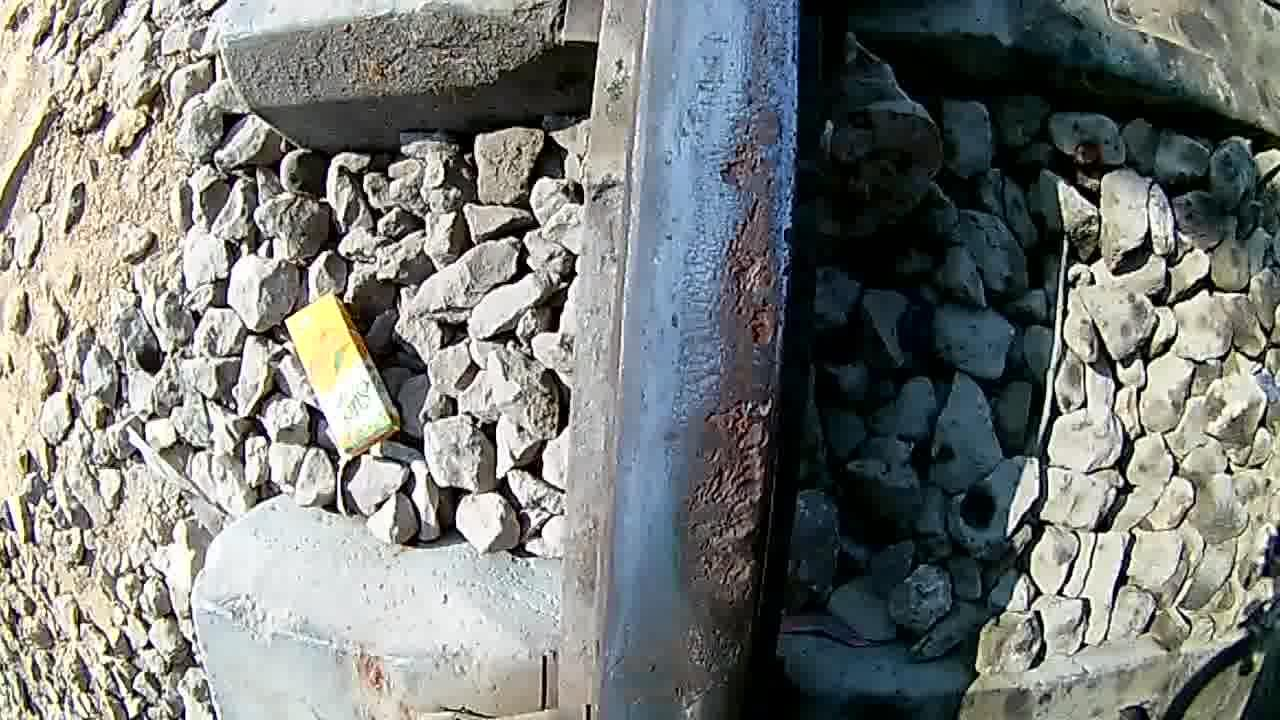crack: (598, 3, 808, 720)
